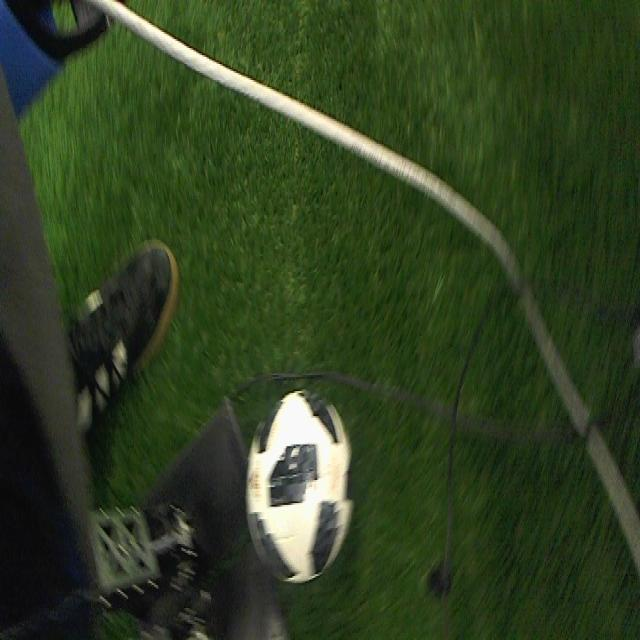ball: (245, 387, 355, 585)
